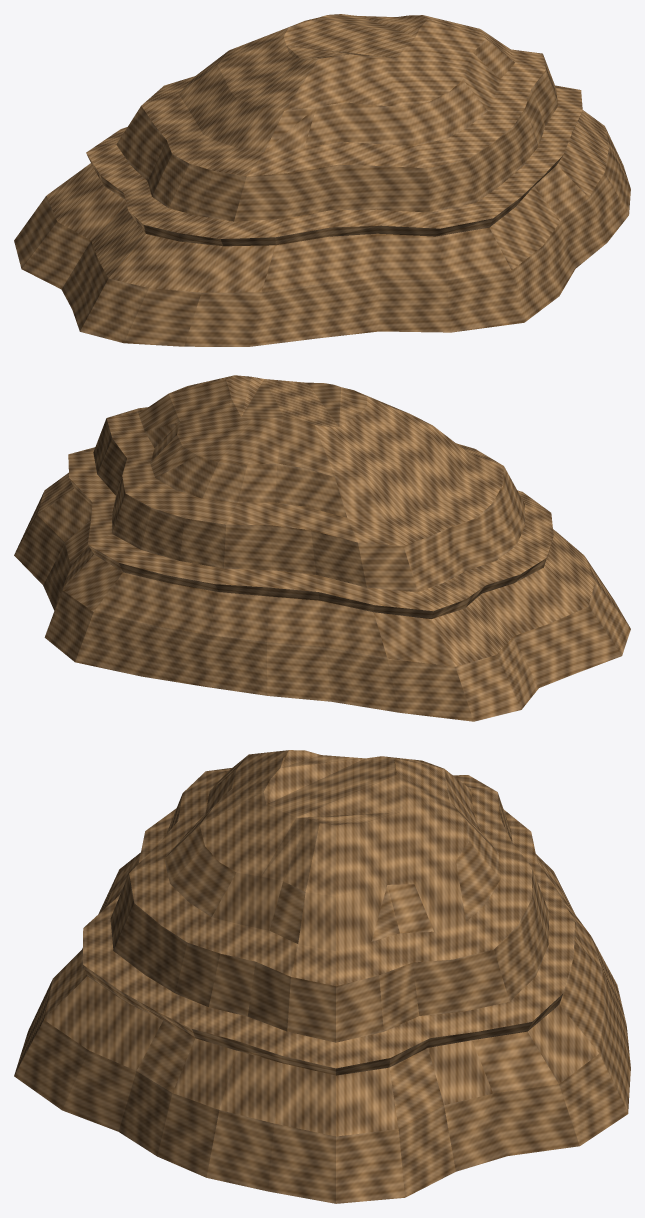
File: 2047_southern_low_outcrop.dae
3 renders of one model, top to bottom at view 1: azimuth 30°, elevation 25°; view 2: azimuth 150°, elevation 25°; view 3: azimuth 270°, elevation 25°, orthographic. The views are drawn at different scales.
Visible parts, largest first — view 1: Node; view 2: Node; view 3: Node.
Part boxes in pixels (left/top/right/bottom): Node: left=14, top=14, right=630, bottom=346; Node: left=14, top=375, right=630, bottom=721; Node: left=14, top=750, right=630, bottom=1203.
Bounding box in the file's own units: 18.82 × 13.83 × 6.62.
Materials: 1 (1 with a texture image).
